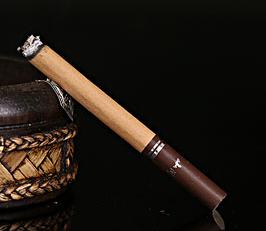smoke: (13, 31, 227, 208)
